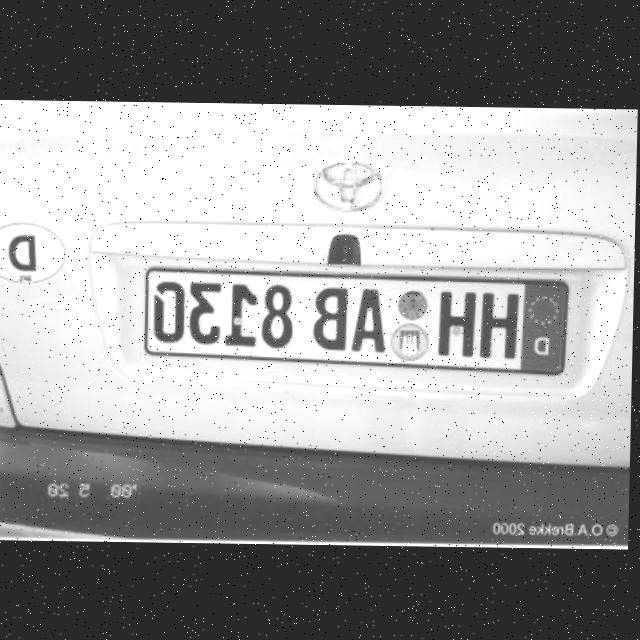license-plates: (143, 269, 569, 375)
